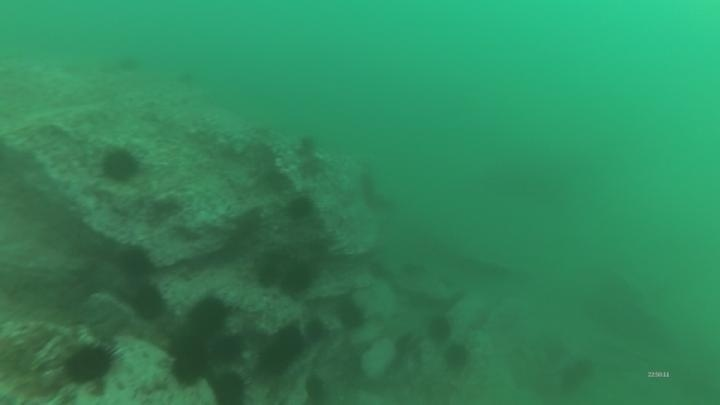echinus: (61, 340, 117, 386), (185, 293, 231, 336), (256, 336, 299, 377), (98, 145, 142, 185), (252, 248, 292, 290), (129, 282, 168, 323), (277, 259, 317, 297), (270, 323, 307, 363), (209, 369, 250, 405), (116, 244, 155, 280), (209, 332, 246, 365), (334, 298, 368, 333), (391, 330, 423, 363), (283, 192, 317, 223), (168, 334, 211, 358), (441, 341, 472, 372), (425, 313, 455, 345), (171, 352, 201, 384), (301, 373, 331, 404), (260, 167, 293, 195), (302, 316, 329, 345), (294, 133, 320, 159), (116, 52, 142, 75)
starfish: (295, 154, 326, 182)
